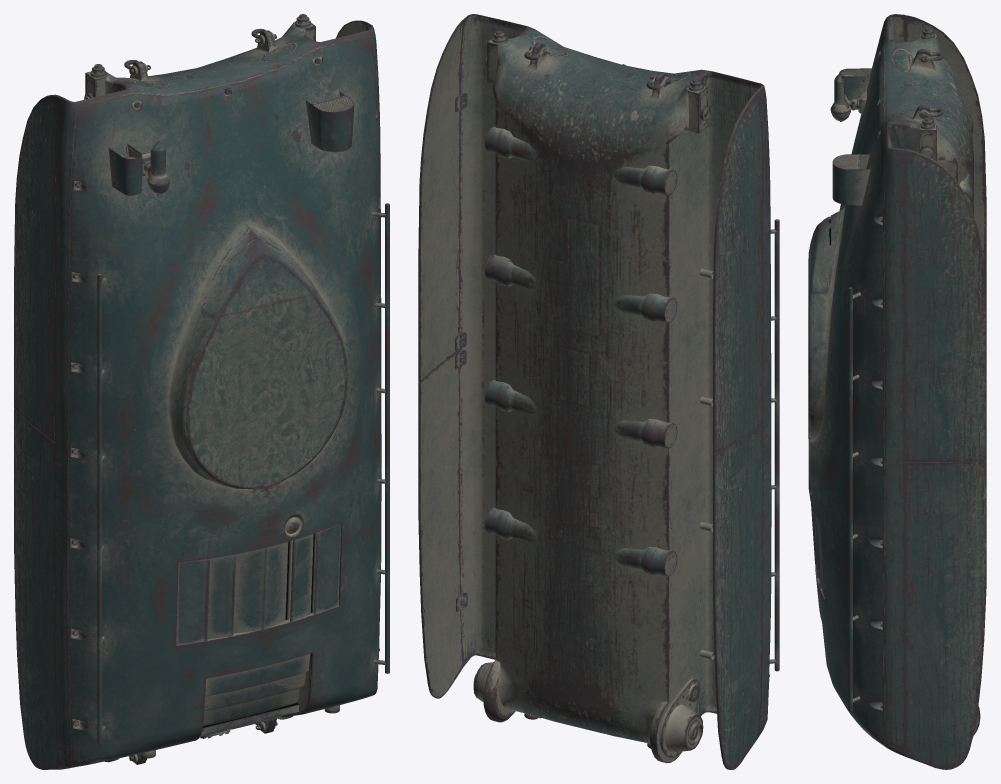
File: Hull.glb
3 renders of one model, left to right at view 1: azimuth 30°, elevation 25°; view 2: azimuth 150°, elevation 25°; view 3: azimuth 270°, elevation 25°, orthographic. The views are drawn at different scales.
Visible parts, largest first — view 1: set_0_group_0; view 2: set_0_group_0; view 3: set_0_group_0.
Boxes of the visible parts, left/top/right/bottom form: set_0_group_0: left=14, top=14, right=389, bottom=769; set_0_group_0: left=418, top=14, right=779, bottom=769; set_0_group_0: left=808, top=14, right=986, bottom=769.
Size of the model in its own units: 2.45 by 5.2 by 1.32.
Materials: 1 (1 with a texture image).
